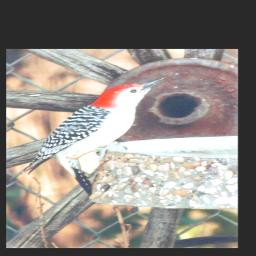Woodpecker: (8, 78, 170, 199)
